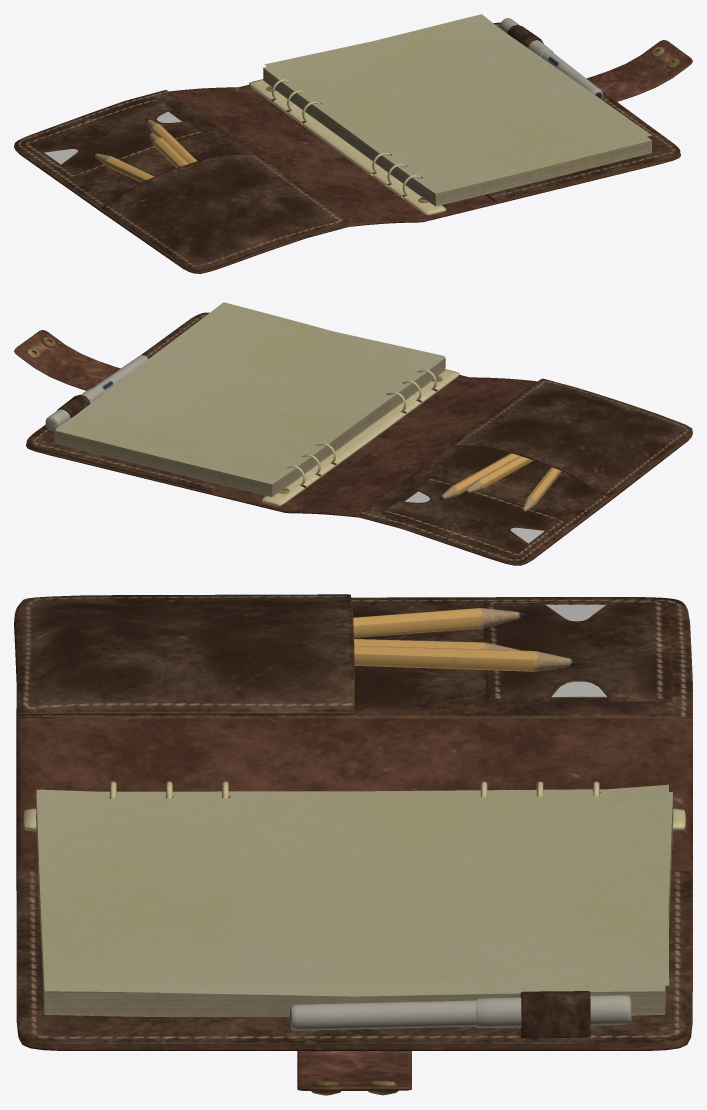
File: binder_notebook.glb
3 renders of one model, top to bottom at view 1: azimuth 30°, elevation 25°; view 2: azimuth 150°, elevation 25°; view 3: azimuth 270°, elevation 25°, orthographic. The views are drawn at different scales.
Visible parts, largest first — view 1: binder_notebook; view 2: binder_notebook; view 3: binder_notebook.
Part boxes in pixels (x1=…): binder_notebook: x1=14, y1=14, x2=692, y2=273; binder_notebook: x1=14, y1=302, x2=692, y2=565; binder_notebook: x1=14, y1=594, x2=692, y2=1095.
Bounding box in the file's own units: 0.3652 × 0.0179 × 0.2.
Materials: 1 (1 with a texture image).
